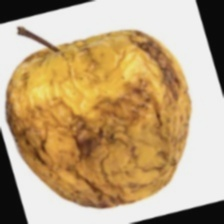apple: (14, 36, 177, 212)
